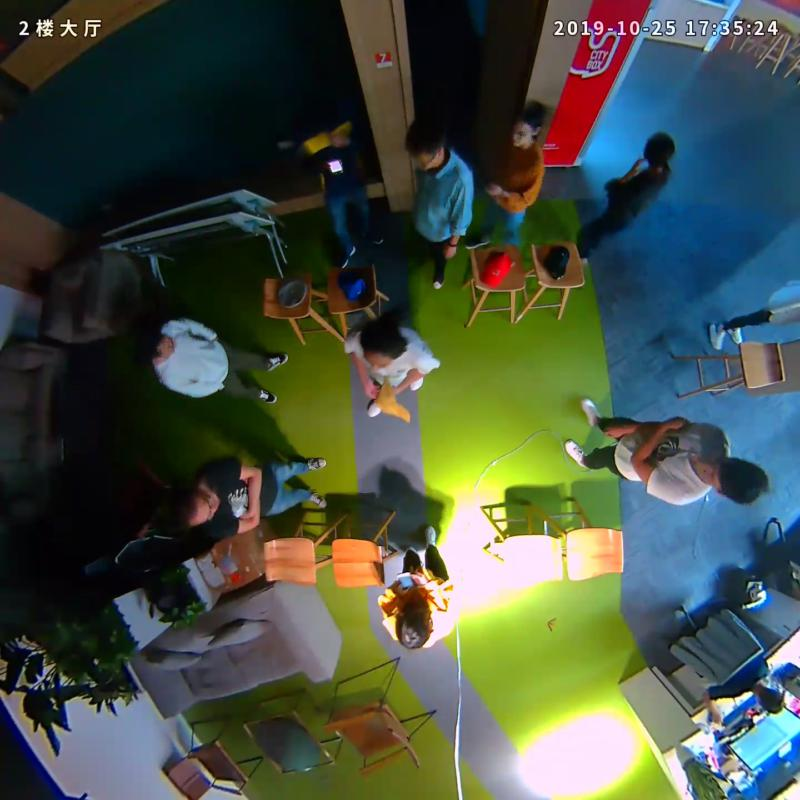head: (693, 451, 769, 504), (160, 480, 219, 530), (362, 318, 405, 372), (405, 115, 446, 171), (288, 91, 334, 132), (510, 99, 546, 149), (397, 601, 434, 648), (129, 332, 176, 366), (643, 133, 675, 169)
